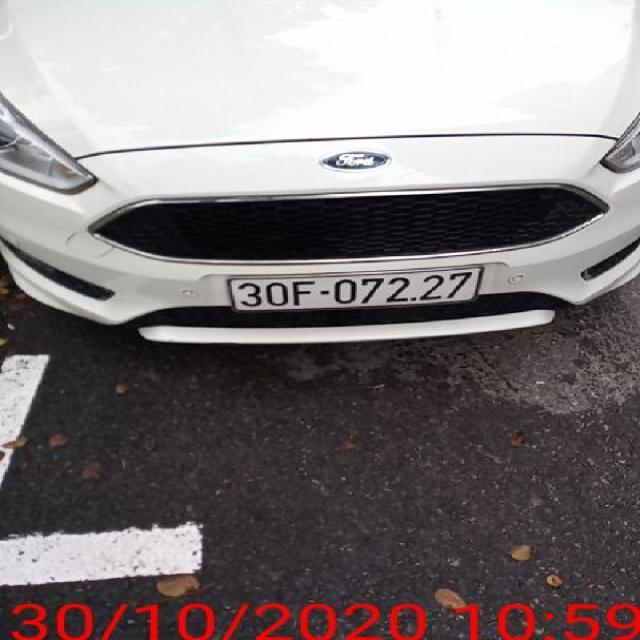bien_so_oto: (222, 264, 488, 314)
